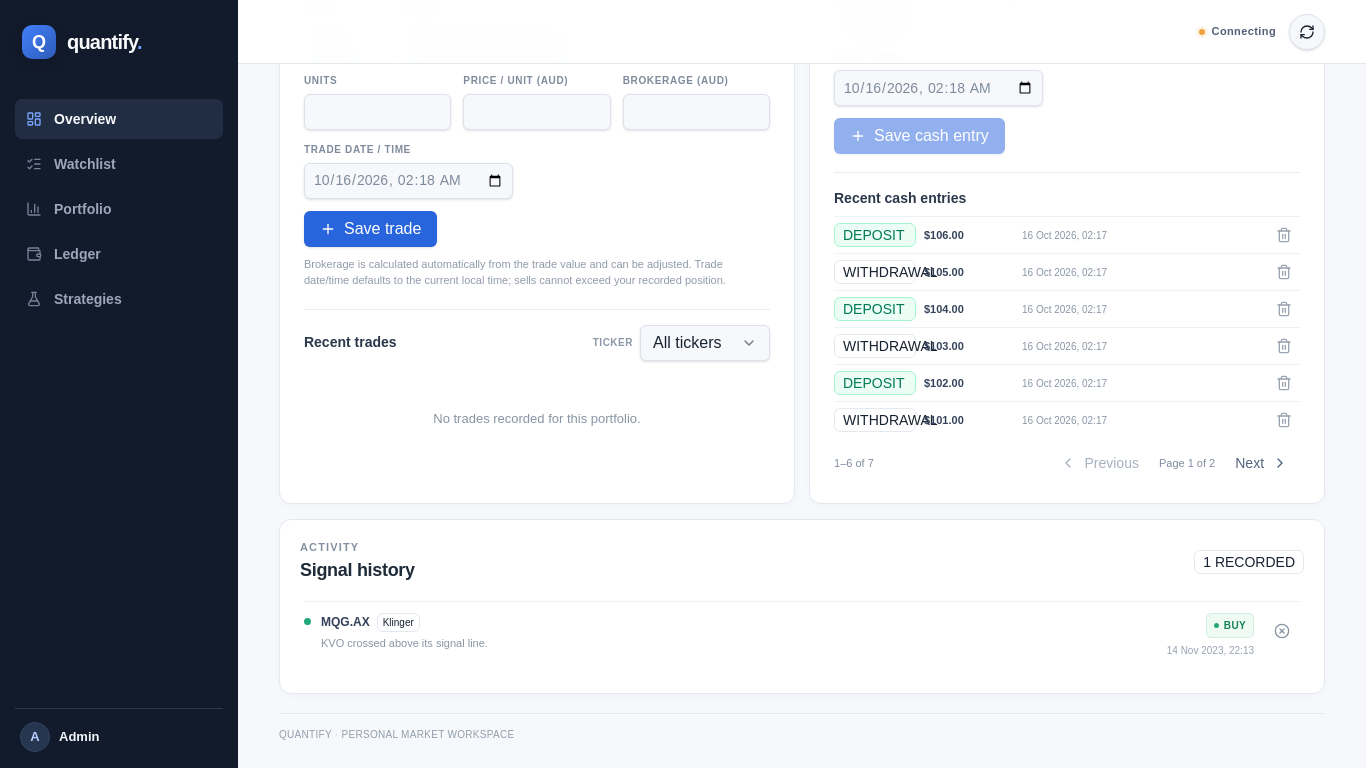
Dashboard › paginates and deletes cash entries from the cash ledger
(page scrolled)
Check: the text "Page 1 of 2" is shown, box [1159,455,1215,471]
Check: the number of elements with class "cash-row" is 6, box [834,216,1300,253]; [834,253,1300,290]; [834,290,1300,327]; [834,327,1300,364]; [834,364,1300,401]; [834,401,1300,438]
Click the button with aria-label "Next cash page": (1262, 463) [1223,447,1300,479]
(page scrolled)
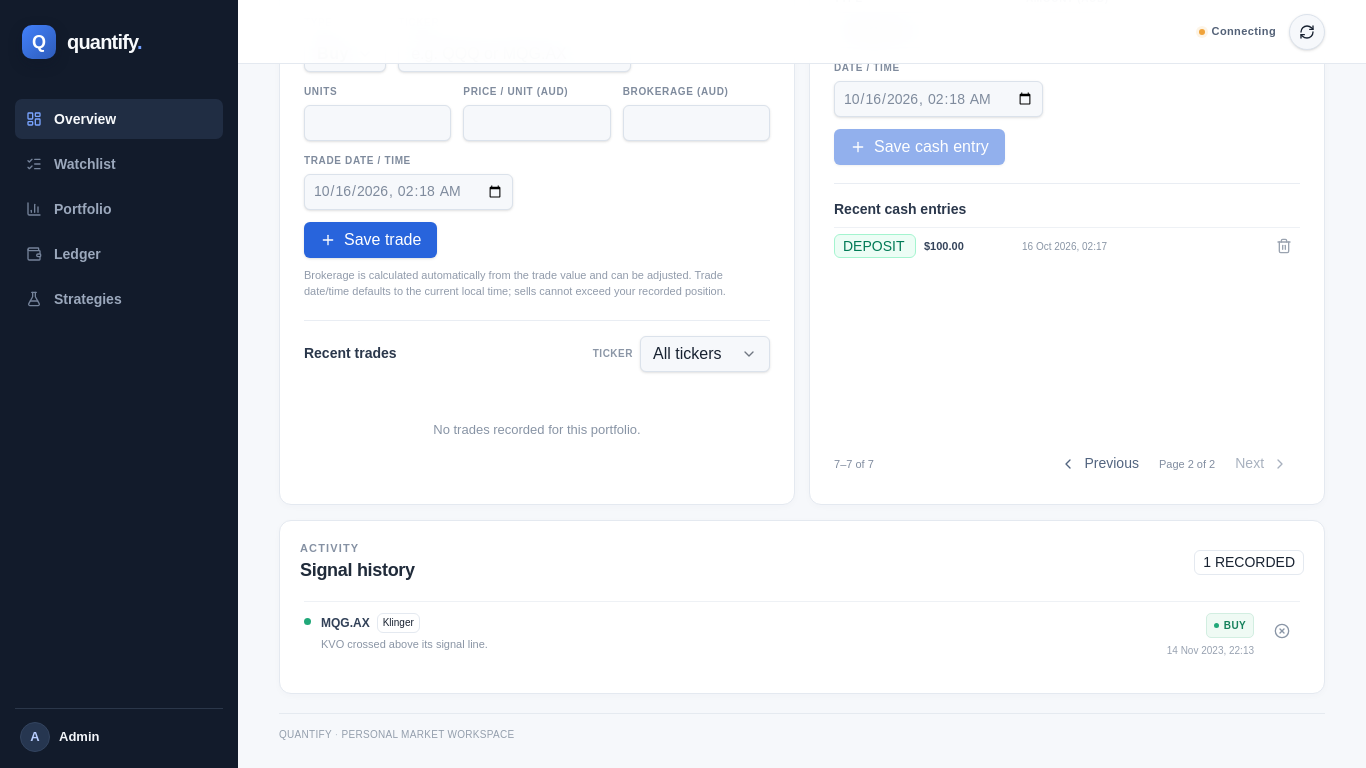
Check: the text "Page 2 of 2" is shown, box [1159,456,1215,472]
Check: the text "7–7 of 7" is shown, box [834,456,874,472]
Check: the number of elements with class "cash-row" is 1, box [834,227,1300,264]
Click the button named "Delete deposit of $100.00": (1284, 246) [1266,228,1302,264]
(page scrolled)
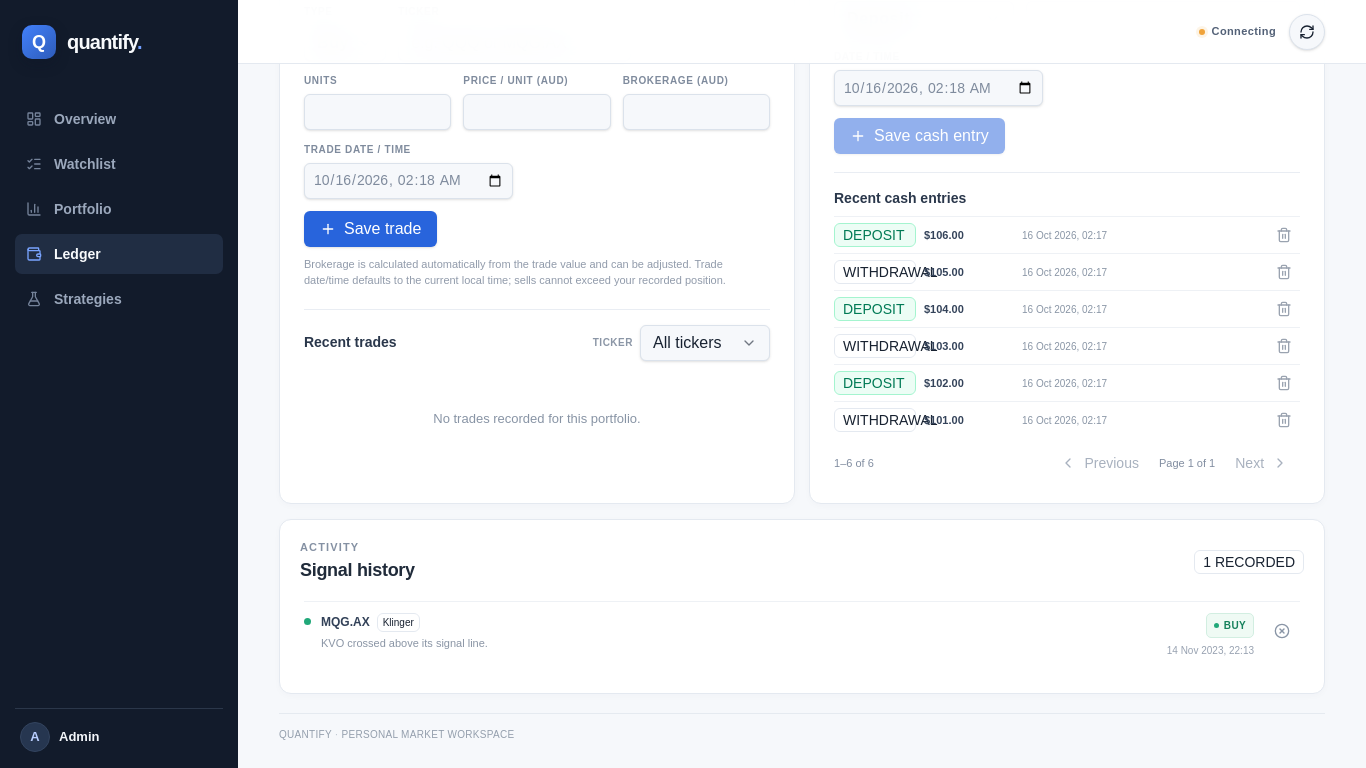
Check: the number of elements with class "cash-row" is 6, box [834,216,1300,253]; [834,253,1300,290]; [834,290,1300,327]; [834,327,1300,364]; [834,364,1300,401]; [834,401,1300,438]
